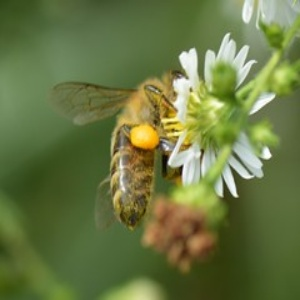bee: (45, 70, 184, 236)
